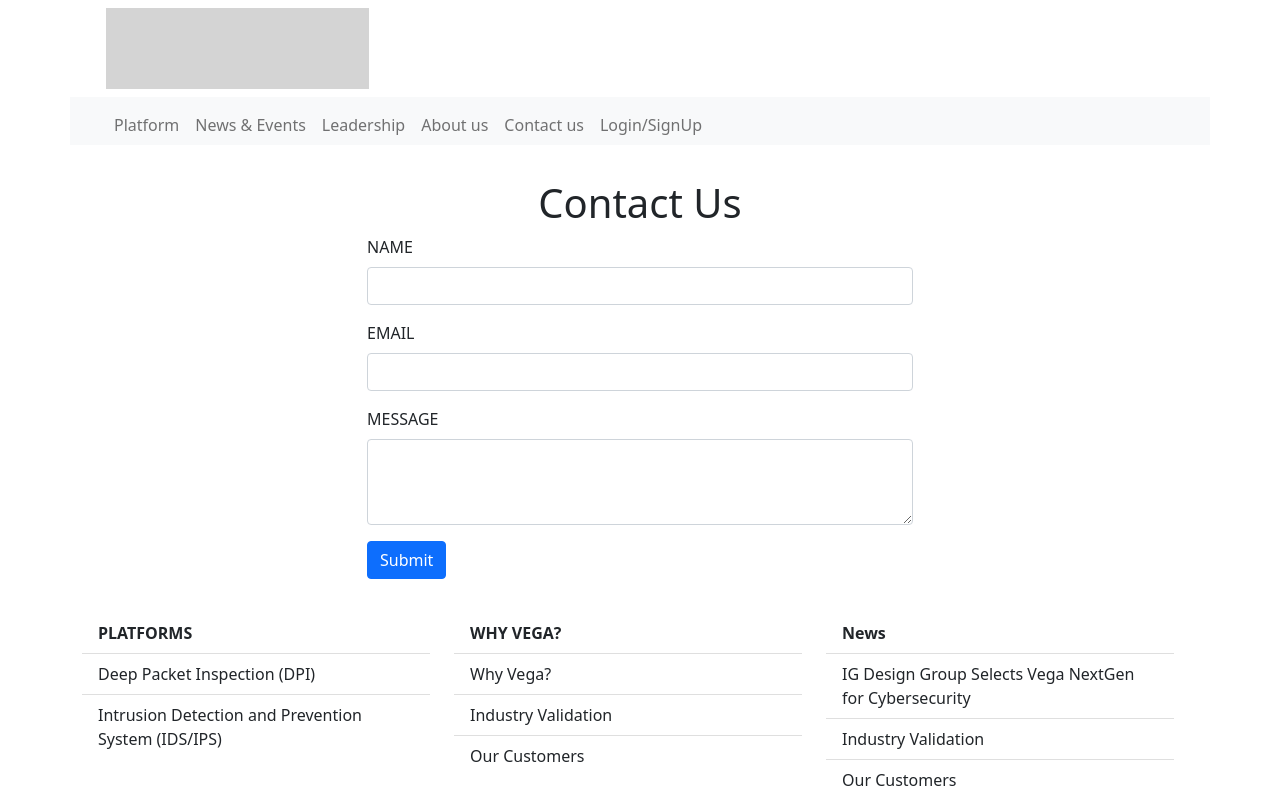
Test: Contact Us › form › displays error messages when all fields are unfilled
Click the button "Submit": (407, 560) [367,541,446,579]
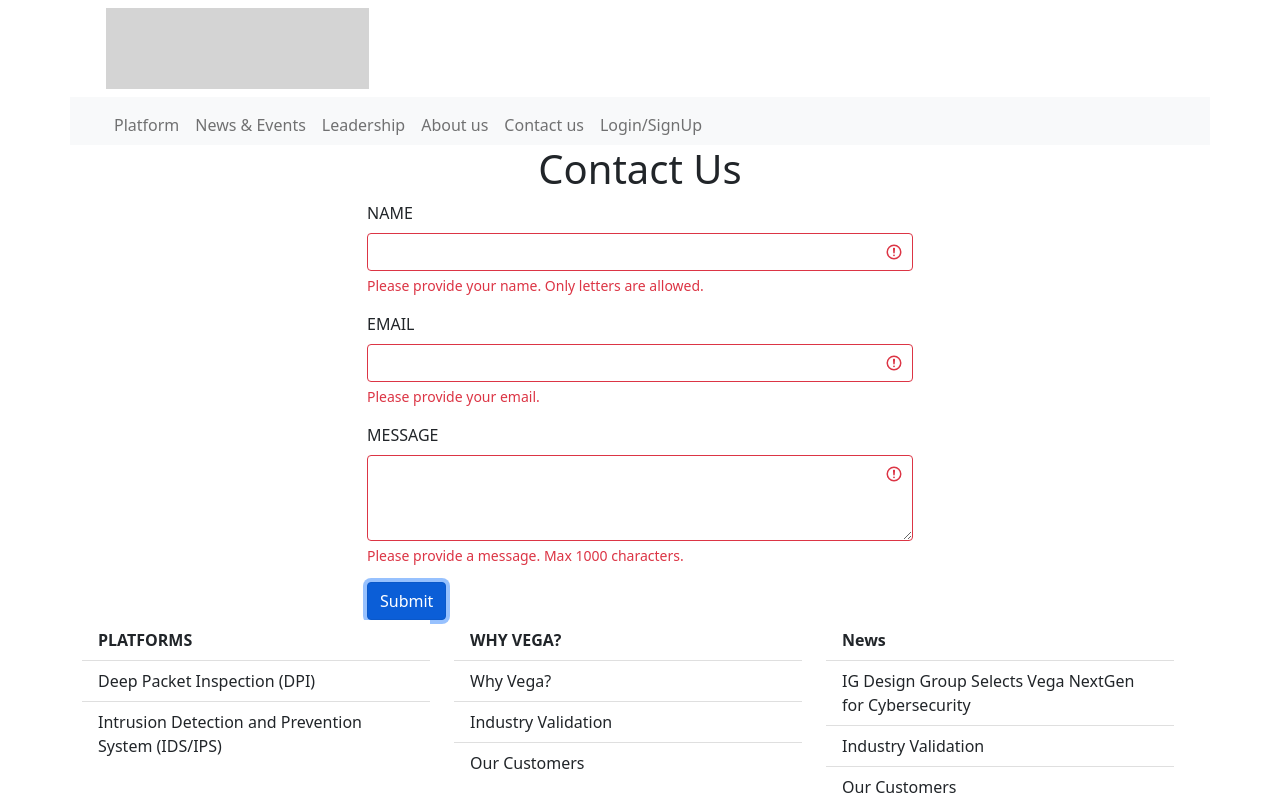
Result: the text "Please provide your name. Only letters are allowed." is shown at [367,276,704,295]
Result: the text "Please provide your email." is shown at [367,387,540,406]
Result: the text "Please provide a message. Max 1000 characters." is shown at [367,546,684,565]
